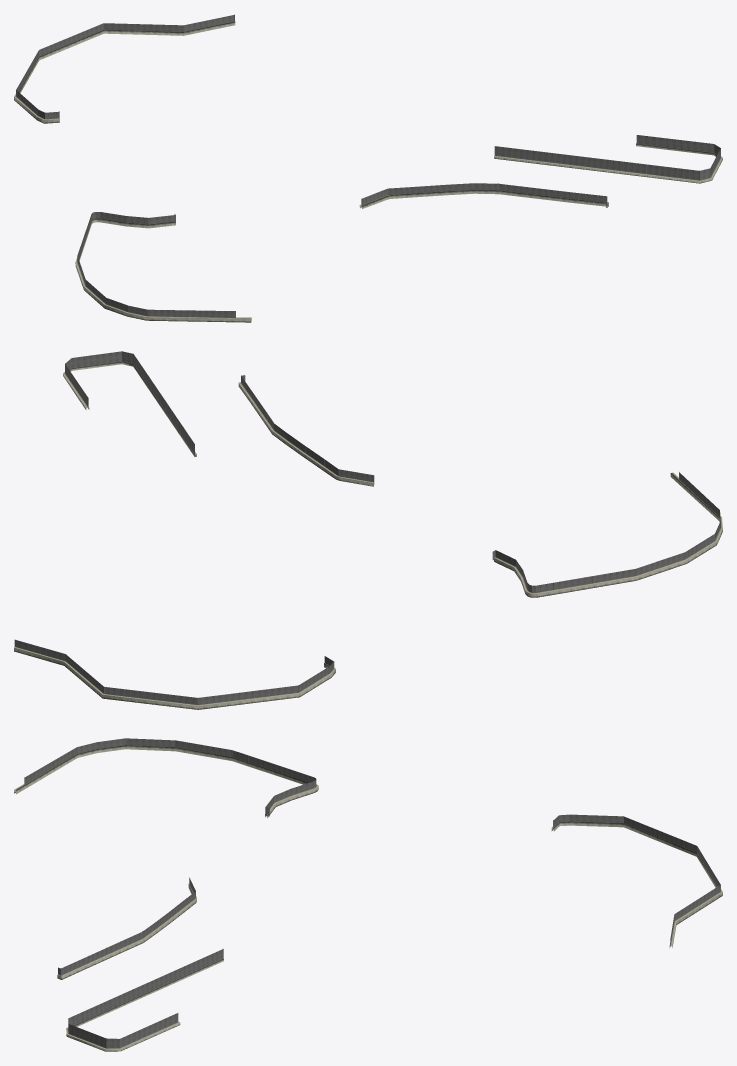
File: Mission_Control_Fence_FBX.fbx
3 renders of one model, top to bottom at view 1: azimuth 30°, elevation 25°; view 2: azimuth 150°, elevation 25°; view 3: azimuth 270°, elevation 25°, orthographic. The views are drawn at different scales.
Visible parts, largest first — view 1: Mission_Control_Fence, Mission_Control_Fence_Base; view 2: Mission_Control_Fence, Mission_Control_Fence_Base; view 3: Mission_Control_Fence, Mission_Control_Fence_Base.
Part boxes in pixels (x1,y1,x2,y2): Mission_Control_Fence: [16, 15, 720, 317]; Mission_Control_Fence_Base: [14, 21, 722, 322]; Mission_Control_Fence: [14, 351, 720, 704]; Mission_Control_Fence_Base: [14, 361, 722, 709]; Mission_Control_Fence: [24, 738, 720, 1048]; Mission_Control_Fence_Base: [14, 745, 722, 1051].
Bounding box in the file's own units: 303 × 11.56 × 292.
3 materials, 2 textured.
